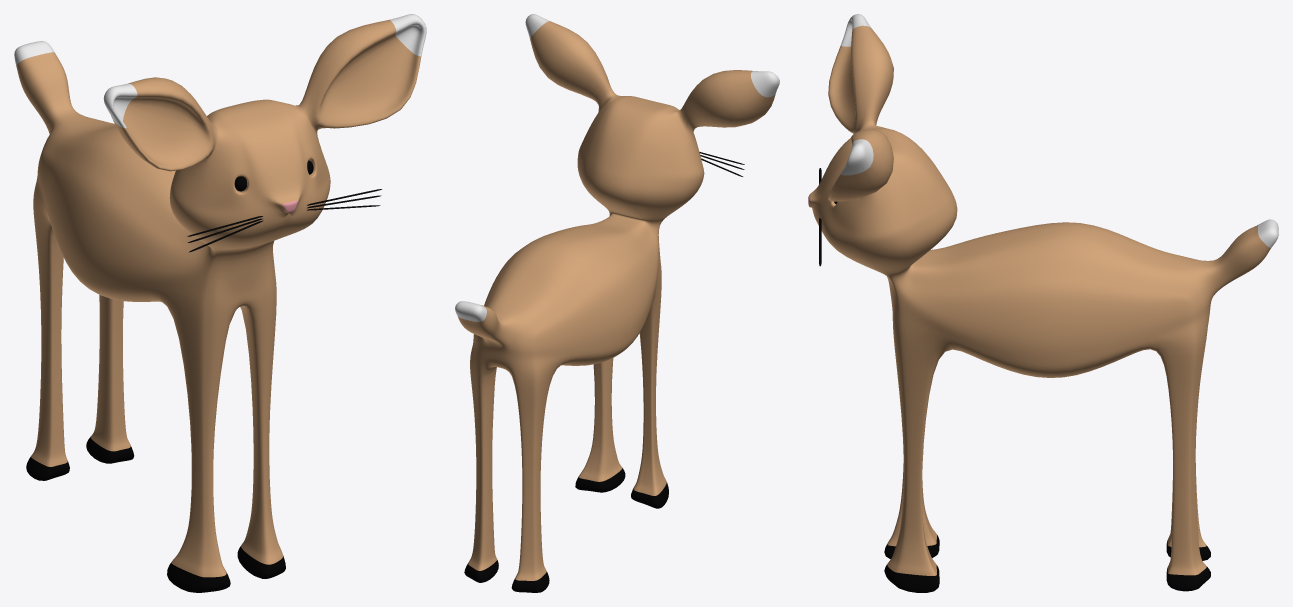
Rendered from DeerSmall_AnimalModel .glb.
3 renders of one model, left to right at view 1: azimuth 30°, elevation 25°; view 2: azimuth 150°, elevation 25°; view 3: azimuth 270°, elevation 25°, orthographic. The views are drawn at different scales.
Visible parts, largest first — view 1: deerSmall; view 2: deerSmall; view 3: deerSmall.
Part boxes in pixels (<box>): deerSmall: <box>14,14,426,592</box>; deerSmall: <box>455,14,779,592</box>; deerSmall: <box>808,14,1278,592</box>.
Bounding box in the file's own units: 3.32 × 5.48 × 4.75.
